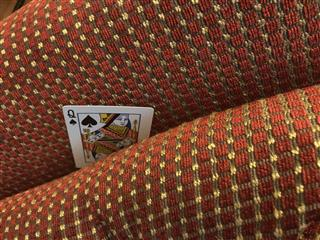QueenOfSpades: (60, 103, 155, 168)
